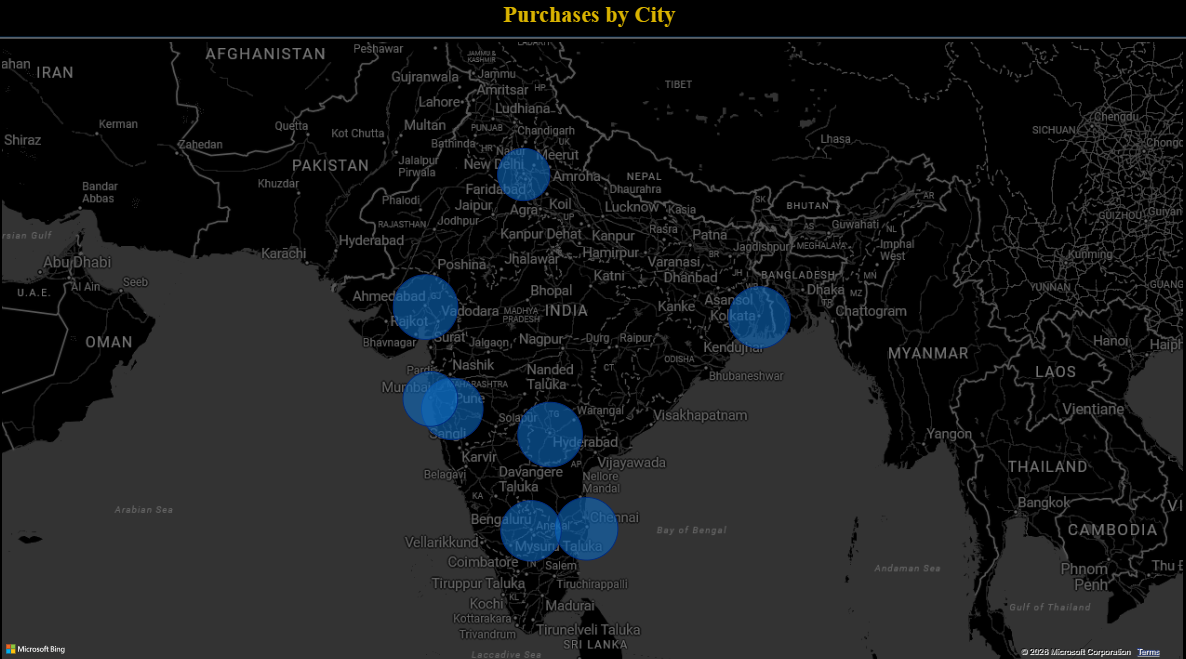

This screenshot's page, from the dashboard's own definition file:
{"tool":"powerbi","page":{"name":"Regional_Analysis","canvas":[1280,720],"ordinal":1},"visuals":[{"type":"map","fields":{"Category":["Customer_data.City"],"Size":["Customer_data.Total Purchase"]},"box":[0,42.9,1280,677.1],"z":0},{"type":"textbox","box":[0,0,1280,42.9],"z":1000}]}

Visuals, with their boxes in screenshot pixels (x1, y1, x2, y2), scaled from the page's 1280x720 canvas onto the 1186x659 screenshot:
map - Customer_data.City x Customer_data.Total Purchase: x1=0 y1=39 x2=1185 y2=658
textbox: x1=0 y1=0 x2=1185 y2=39
